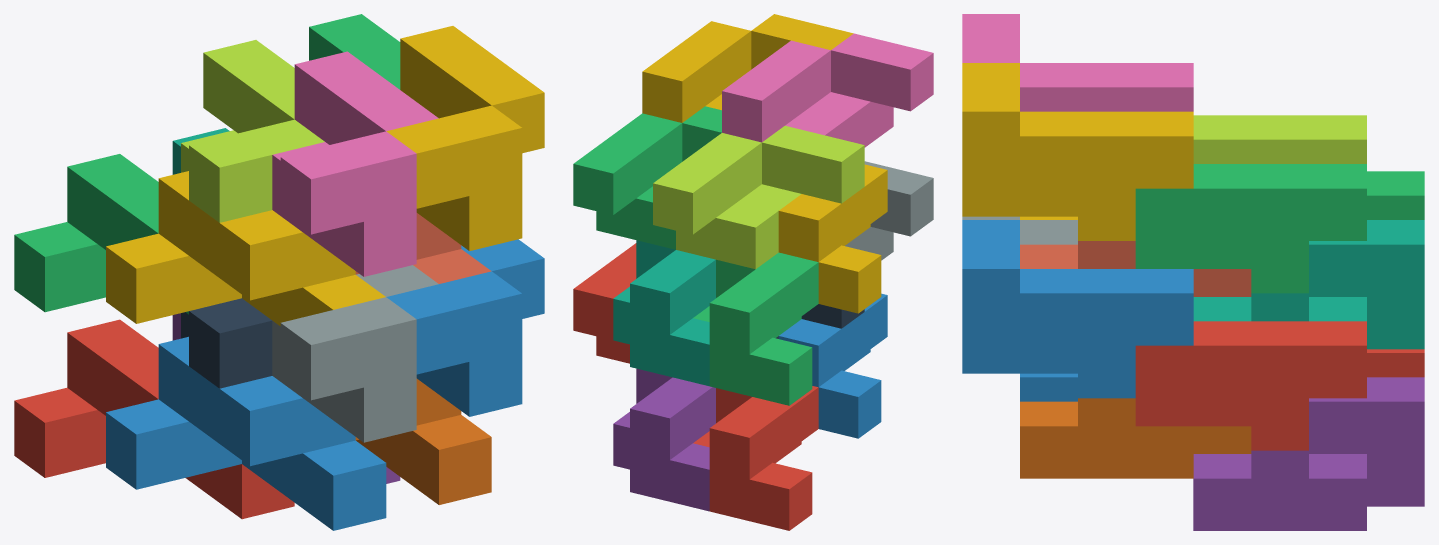
The model's file is tiling.obj.
3 views of the same model, side by side, from view 1: azimuth 30°, elevation 25°; view 2: azimuth 150°, elevation 25°; view 3: azimuth 270°, elevation 25° (orthographic). The views are drawn at different scales.
Parts seen in each view (by area): view 1: copy_1_domain_2, copy_2_domain_4, copy_2_domain_8, copy_1_domain_4, copy_2_domain_2, copy_1_domain_1, copy_2_domain_6, copy_2_domain_3, copy_1_domain_3, copy_1_domain_6, copy_2_domain_1, copy_2_domain_7 (+1 smaller); view 2: copy_2_domain_3, copy_2_domain_4, copy_1_domain_3, copy_1_domain_1, copy_1_domain_7, copy_2_domain_7, copy_1_domain_5, copy_2_domain_8, copy_1_domain_4, copy_1_domain_2, copy_2_domain_5, copy_2_domain_2 (+1 smaller); view 3: copy_2_domain_8, copy_2_domain_6, copy_1_domain_5, copy_2_domain_5, copy_2_domain_7, copy_1_domain_7, copy_1_domain_6, copy_2_domain_4, copy_2_domain_3, copy_1_domain_8, copy_1_domain_3, copy_1_domain_1 (+2 smaller).
Boxes of the visible parts, x1,y1,x2,y2 form: copy_1_domain_2: (106,336,386,530); copy_2_domain_4: (272,51,438,276); copy_2_domain_8: (386,26,544,250); copy_1_domain_4: (106,171,385,326); copy_2_domain_2: (272,265,438,442); copy_1_domain_1: (14,319,294,519); copy_2_domain_6: (386,239,544,416); copy_2_domain_3: (181,40,324,222); copy_1_domain_3: (14,154,188,314); copy_1_domain_6: (355,378,491,504); copy_2_domain_1: (181,298,272,388); copy_2_domain_7: (309,14,400,89); copy_2_domain_3: (653,125,864,269); copy_2_domain_4: (722,33,933,147); copy_1_domain_3: (693,252,818,405); copy_1_domain_1: (693,386,818,530); copy_1_domain_7: (613,240,715,386); copy_2_domain_7: (573,106,721,249); copy_1_domain_5: (613,368,715,511); copy_2_domain_8: (642,14,853,122); copy_1_domain_4: (778,164,887,313); copy_1_domain_2: (778,293,887,438); copy_2_domain_5: (573,243,636,363); copy_2_domain_2: (845,161,933,260); copy_2_domain_8: (962,63,1193,240); copy_2_domain_6: (962,220,1193,398); copy_1_domain_5: (1193,377,1424,530); copy_2_domain_5: (1135,321,1366,450); copy_2_domain_7: (1135,164,1366,293); copy_1_domain_7: (1193,220,1424,349); copy_1_domain_6: (1020,398,1251,478); copy_2_domain_4: (962,14,1193,111); copy_2_domain_3: (1193,115,1366,163); copy_1_domain_8: (1020,241,1251,296); copy_1_domain_3: (1367,171,1424,219); copy_1_domain_1: (1367,349,1424,377).
Bounding box in the file's own units: 6 × 8 × 8.
